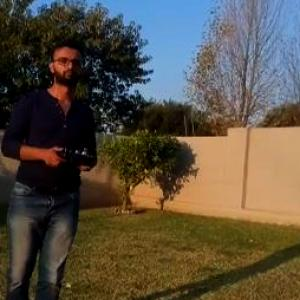follow: (0, 33, 107, 299)
